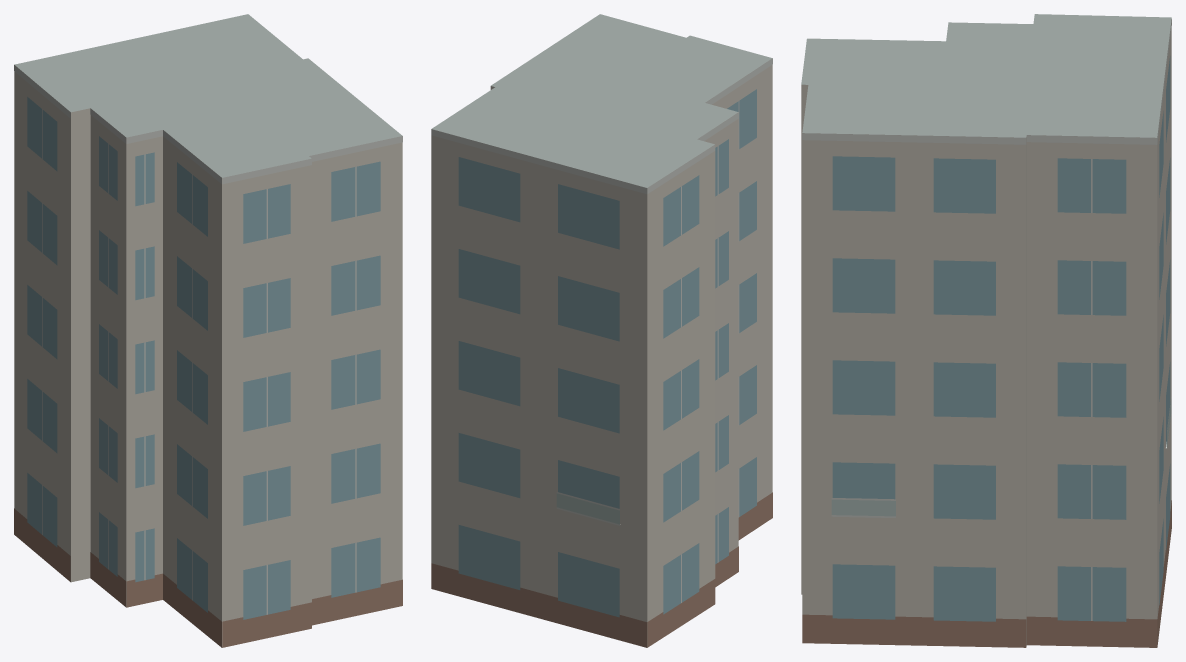
The model's file is survey-upis-32768676.glb.
The picture shows the model from 3 angles, left to right: view 1: azimuth 30°, elevation 25°; view 2: azimuth 150°, elevation 25°; view 3: azimuth 270°, elevation 25°; orthographic projection. The views are drawn at different scales.
Visible parts, largest first — view 1: survey-upis-32768676.tmp; view 2: survey-upis-32768676.tmp; view 3: survey-upis-32768676.tmp.
Part boxes in pixels (x1=…): survey-upis-32768676.tmp: x1=14, y1=14, x2=402, y2=647; survey-upis-32768676.tmp: x1=431, y1=14, x2=772, y2=647; survey-upis-32768676.tmp: x1=801, y1=14, x2=1171, y2=647.
Size of the model in its own units: 9.22 by 17.7 by 11.67.
